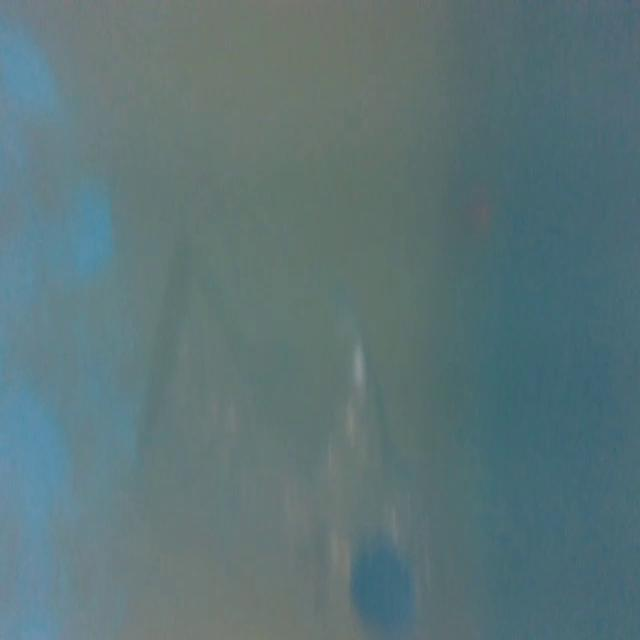plastic bottle: (190, 262, 429, 638)
